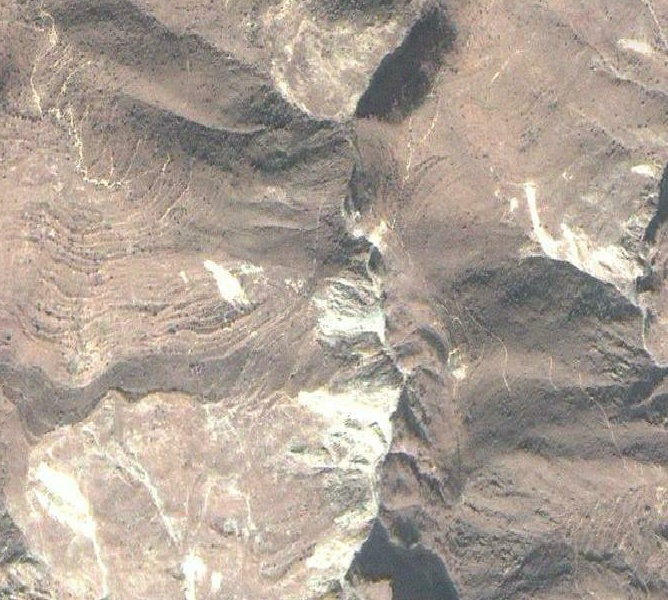slope: (276, 213, 414, 593), (508, 156, 664, 314), (198, 255, 258, 314)
